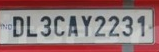1: (137, 15, 146, 37)
2: (108, 15, 121, 38), (94, 16, 107, 37)
3: (121, 15, 135, 37), (40, 16, 52, 37)
A: (67, 15, 80, 37)
C: (53, 15, 66, 37)
D: (13, 16, 25, 38)
L: (25, 15, 38, 38)
Y: (81, 15, 92, 37)
